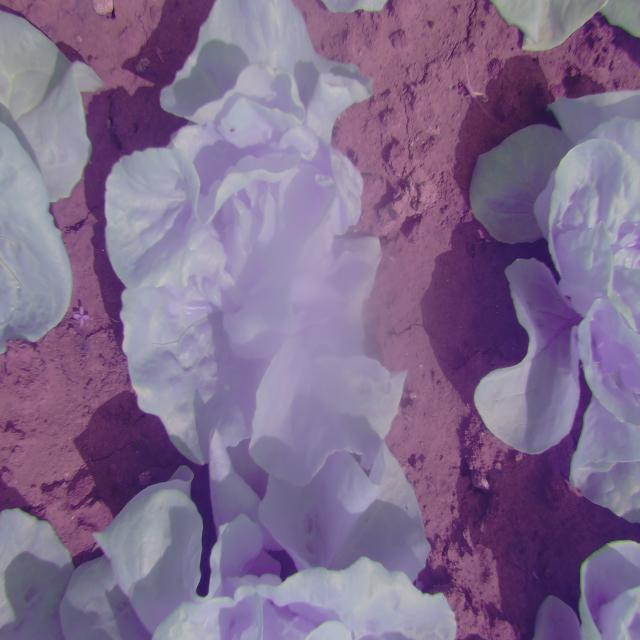vege: (94, 0, 407, 465)
